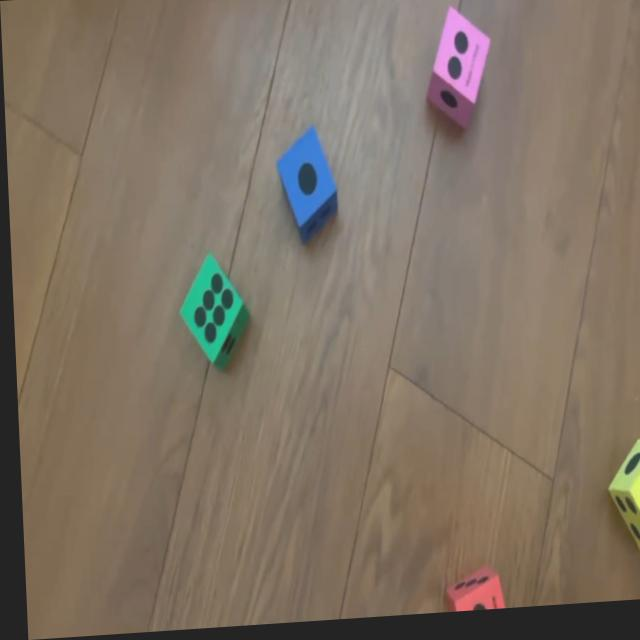cube: (174, 252, 249, 374), (274, 127, 335, 246), (440, 573, 502, 618)
